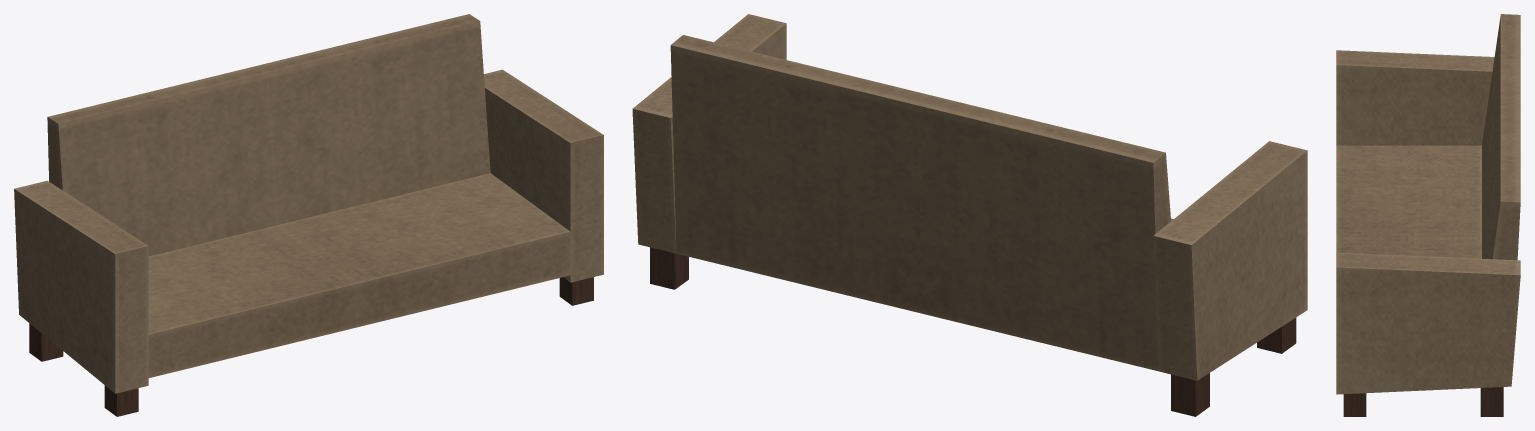
The model's file is Couch_2B.fbx.
The picture shows the model from 3 angles, left to right: view 1: azimuth 30°, elevation 25°; view 2: azimuth 150°, elevation 25°; view 3: azimuth 270°, elevation 25°; orthographic projection. The views are drawn at different scales.
Parts seen in each view (by area): view 1: polySurface719; view 2: polySurface719; view 3: polySurface719.
Boxes of the visible parts, box(x1,y1,x2,y2) form: polySurface719: box(14, 14, 603, 416); polySurface719: box(632, 14, 1307, 416); polySurface719: box(1336, 14, 1520, 416).
Size of the model in its own units: 2.93 by 1.28 by 1.05.
